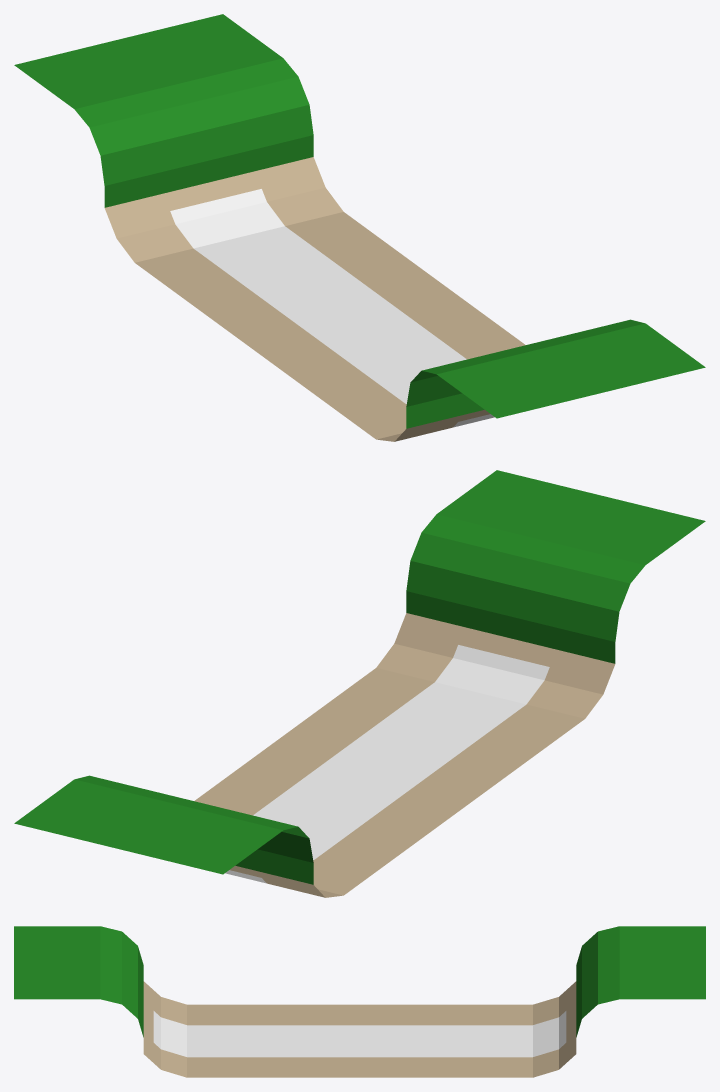
File: Track_Standard_Finish_Line_Double_Blank.obj
3 renders of one model, top to bottom at view 1: azimuth 30°, elevation 25°; view 2: azimuth 150°, elevation 25°; view 3: azimuth 270°, elevation 25°, orthographic. The views are drawn at different scales.
Visible parts, largest first — view 1: Grass, Dirt, Ground_Finish_Line; view 2: Grass, Dirt, Ground_Finish_Line; view 3: Dirt, Grass, Ground_Finish_Line.
Boxes of the visible parts, <box> form: Grass: <box>14,14,705,428</box>; Dirt: <box>104,157,525,441</box>; Ground_Finish_Line: <box>170,189,494,427</box>; Grass: <box>14,470,705,884</box>; Dirt: <box>194,613,615,897</box>; Ground_Finish_Line: <box>225,645,549,883</box>; Dirt: <box>143,981,576,1077</box>; Grass: <box>14,926,705,1037</box>; Ground_Finish_Line: <box>153,1011,566,1057</box>.
Bounding box in the file's own units: 1 × 0.5 × 4.
